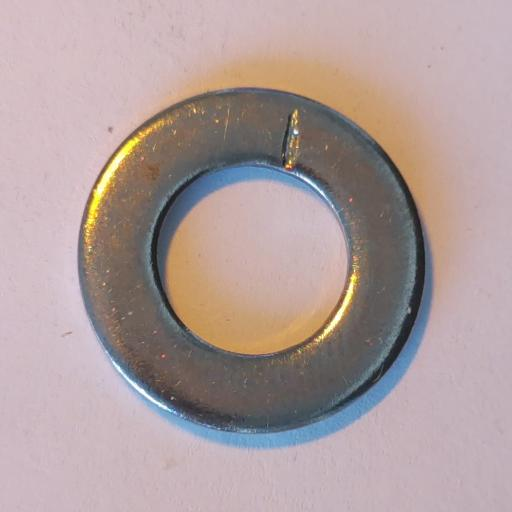scratch: (282, 109, 300, 171)
